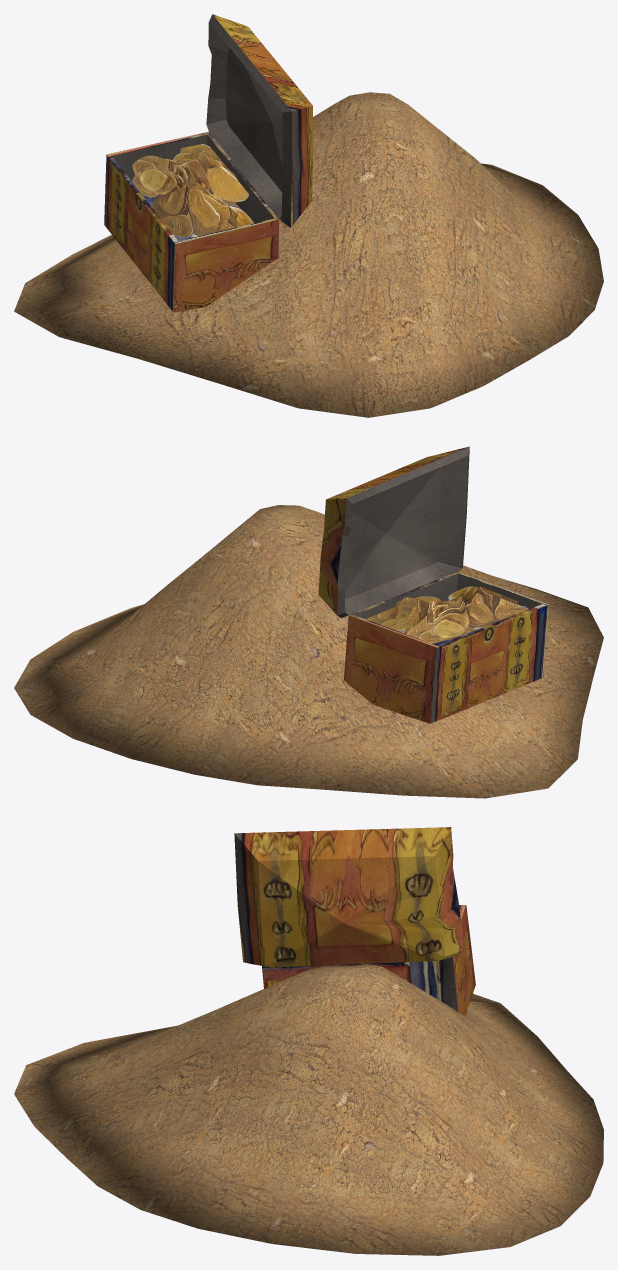
Rendered from WinningIsland.fbx.
The picture shows the model from 3 angles, top to bottom: view 1: azimuth 30°, elevation 25°; view 2: azimuth 150°, elevation 25°; view 3: azimuth 270°, elevation 25°; orthographic projection. The views are drawn at different scales.
Parts seen in each view (by area): view 1: Desert Island.001, Old chest, open, filled with gold, watercolour and gouache.0, Old large gold coins in a large pile, watercolour and gouach; view 2: Desert Island.001, Old chest, open, filled with gold, watercolour and gouache.0, Old large gold coins in a large pile, watercolour and gouach; view 3: Desert Island.001, Old chest, open, filled with gold, watercolour and gouache.0.
Part boxes in pixels (bbox=[...]): Desert Island.001: bbox=[14, 92, 603, 417]; Old chest, open, filled with gold, watercolour and gouache.0: bbox=[104, 14, 312, 312]; Old large gold coins in a large pile, watercolour and gouach: bbox=[131, 144, 254, 237]; Desert Island.001: bbox=[14, 505, 603, 798]; Old chest, open, filled with gold, watercolour and gouache.0: bbox=[318, 446, 548, 723]; Old large gold coins in a large pile, watercolour and gouach: bbox=[366, 586, 528, 643]; Desert Island.001: bbox=[14, 964, 603, 1255]; Old chest, open, filled with gold, watercolour and gouache.0: bbox=[234, 827, 475, 1016].
Size of the model in its own units: 69.98 by 31.3 by 64.16.
